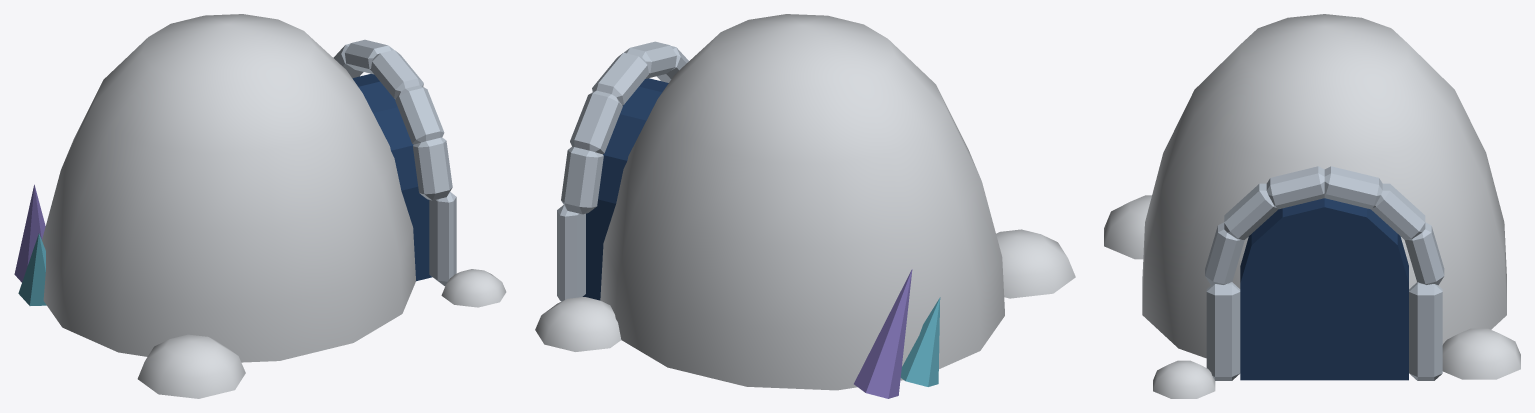
File: ice-hide.glb
The picture shows the model from 3 angles, left to right: view 1: azimuth 30°, elevation 25°; view 2: azimuth 150°, elevation 25°; view 3: azimuth 270°, elevation 25°; orthographic projection. The views are drawn at different scales.
Visible parts, largest first — view 1: ice-hide; view 2: ice-hide; view 3: ice-hide.
Boxes of the visible parts, x1,y1,x2,y2 form: ice-hide: [14, 14, 506, 398]; ice-hide: [535, 14, 1075, 398]; ice-hide: [1104, 14, 1520, 398].
Size of the model in its own units: 1.56 by 1.08 by 1.48.
